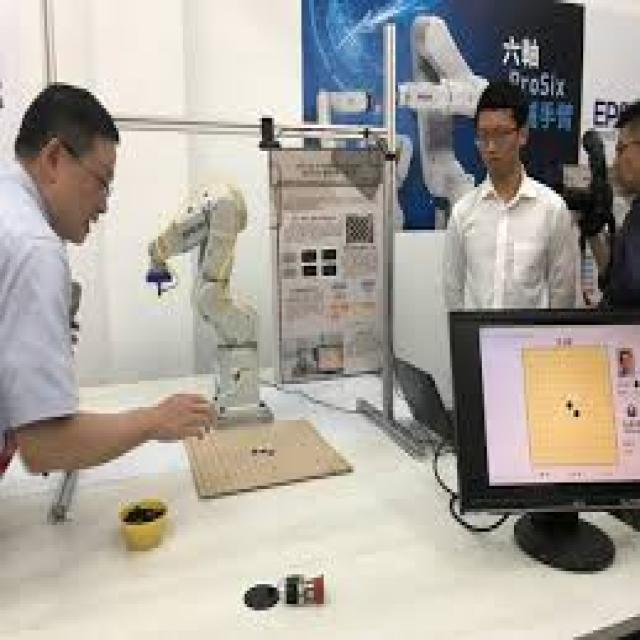Robotic-arm: (137, 174, 281, 420), (409, 6, 490, 213)
